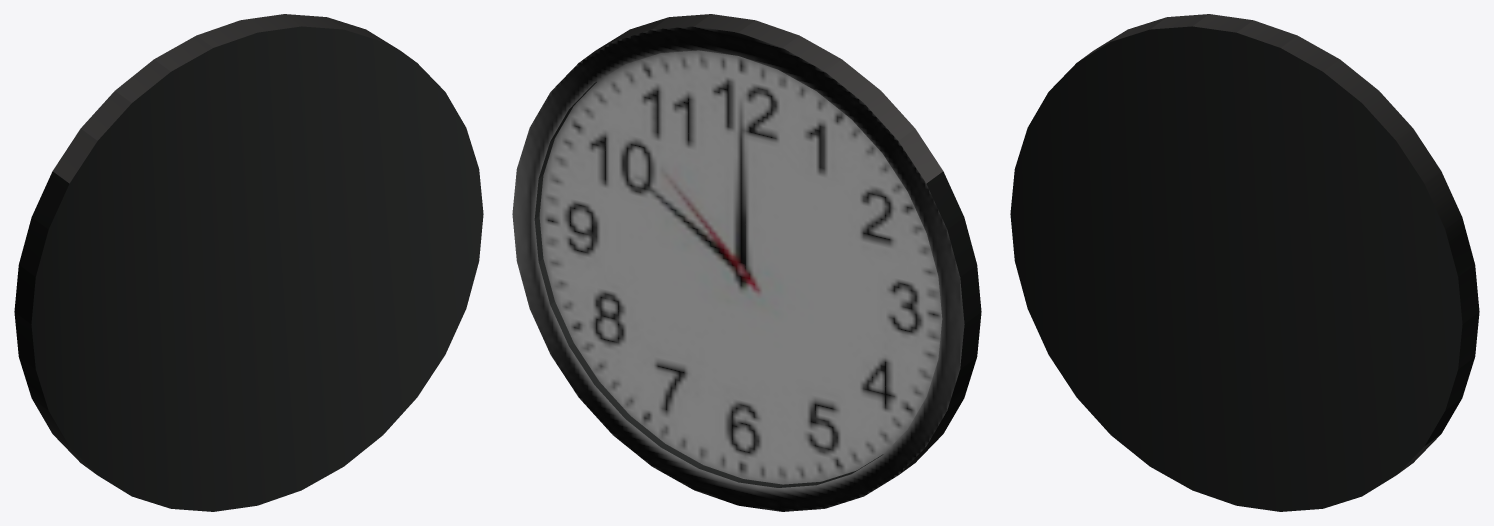
File: lowpoly_wall_clock.glb
The picture shows the model from 3 angles, left to right: view 1: azimuth 30°, elevation 25°; view 2: azimuth 150°, elevation 25°; view 3: azimuth 330°, elevation 25°; orthographic projection.
Visible parts, largest first — view 1: Cylinder; view 2: Cylinder; view 3: Cylinder.
Boxes of the visible parts, x1,y1,x2,y2 form: Cylinder: (14, 14, 483, 511); Cylinder: (512, 14, 981, 511); Cylinder: (1010, 14, 1479, 511).
Bounding box in the file's own units: 2 × 2 × 0.1304.
1 material, 1 textured.
